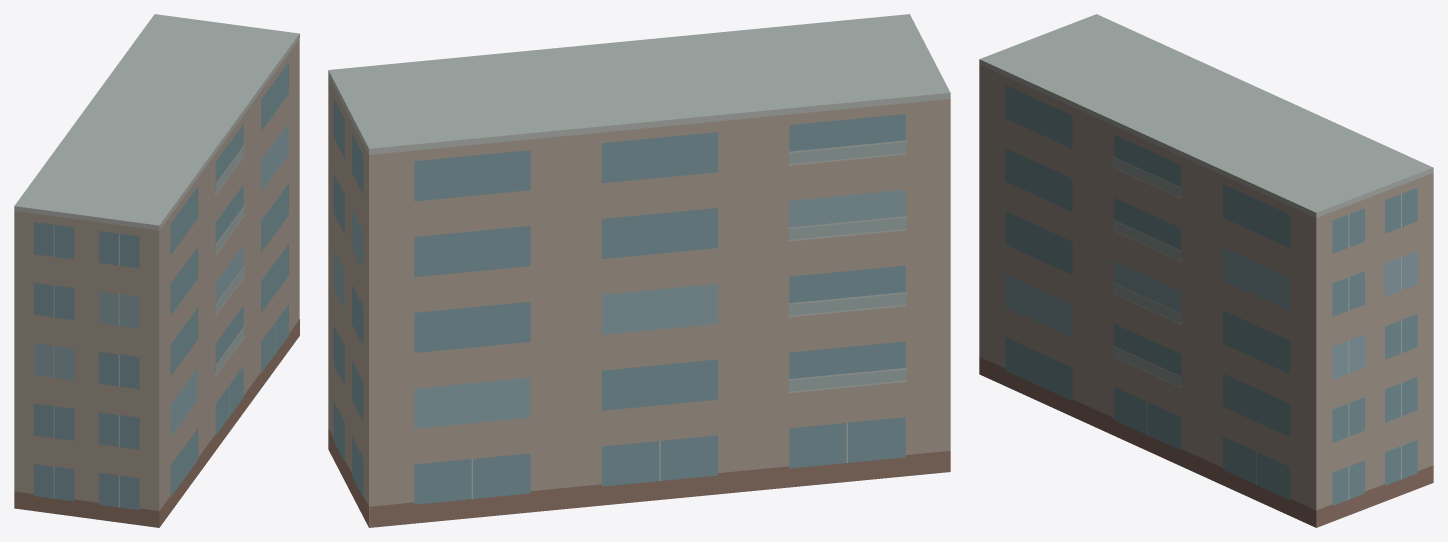
File: survey-upis-32529036.glb
3 views of the same model, side by side, from view 1: azimuth 30°, elevation 25°; view 2: azimuth 150°, elevation 25°; view 3: azimuth 270°, elevation 25° (orthographic). The views are drawn at different scales.
Parts seen in each view (by area): view 1: survey-upis-32529036.tmp; view 2: survey-upis-32529036.tmp; view 3: survey-upis-32529036.tmp.
Part boxes in pixels (box(x1,y1,x2,y2)): survey-upis-32529036.tmp: box(14, 14, 299, 527); survey-upis-32529036.tmp: box(328, 14, 950, 527); survey-upis-32529036.tmp: box(979, 14, 1433, 527).
Size of the model in its own units: 20.44 by 15.1 by 19.74.
